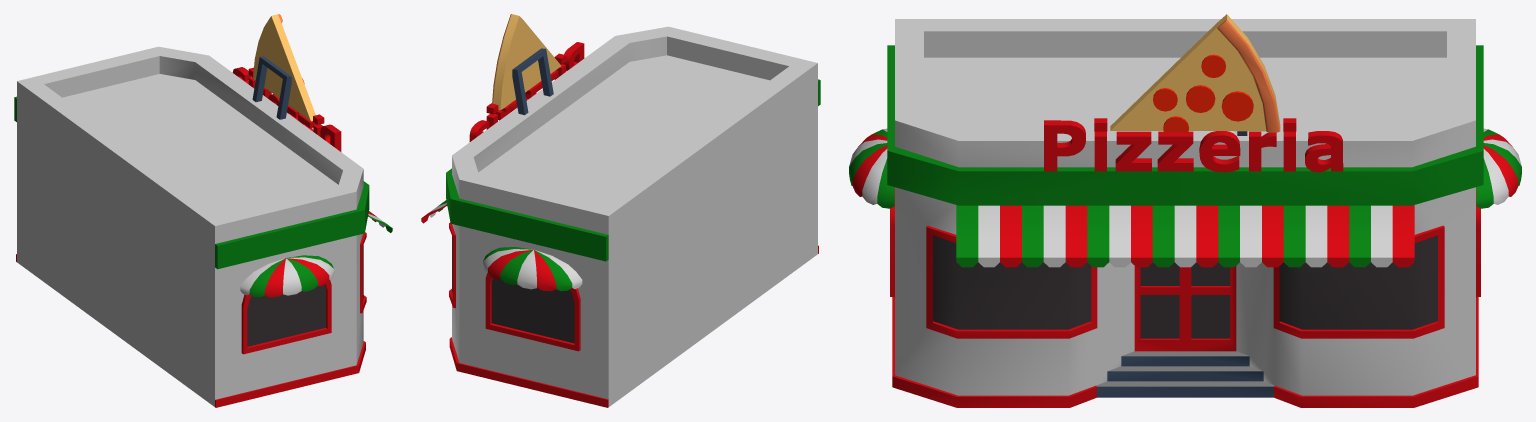
File: Pizzaria.glb
3 views of the same model, side by side, from view 1: azimuth 30°, elevation 25°; view 2: azimuth 150°, elevation 25°; view 3: azimuth 270°, elevation 25° (orthographic). The views are drawn at different scales.
Visible parts, largest first — view 1: PizzaBuilding; view 2: PizzaBuilding; view 3: PizzaBuilding.
Part boxes in pixels (x1,y1,x2,y2): PizzaBuilding: [14, 14, 392, 407]; PizzaBuilding: [421, 14, 820, 407]; PizzaBuilding: [849, 14, 1521, 407].
Size of the model in its own units: 2.55 by 3.27 by 5.09.
Materials: 1 (1 with a texture image).
